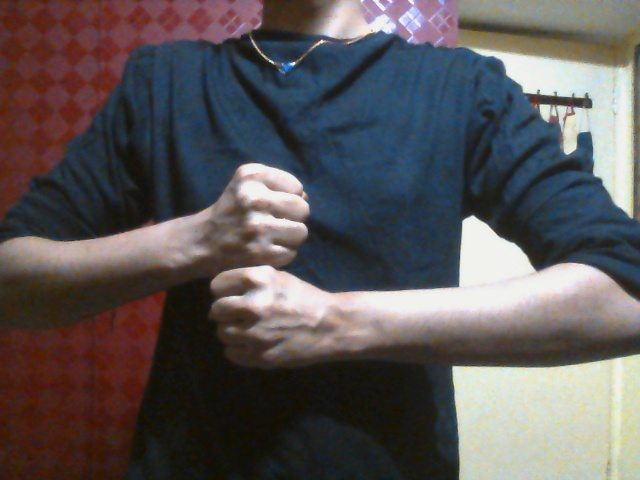G: (205, 160, 335, 373)
